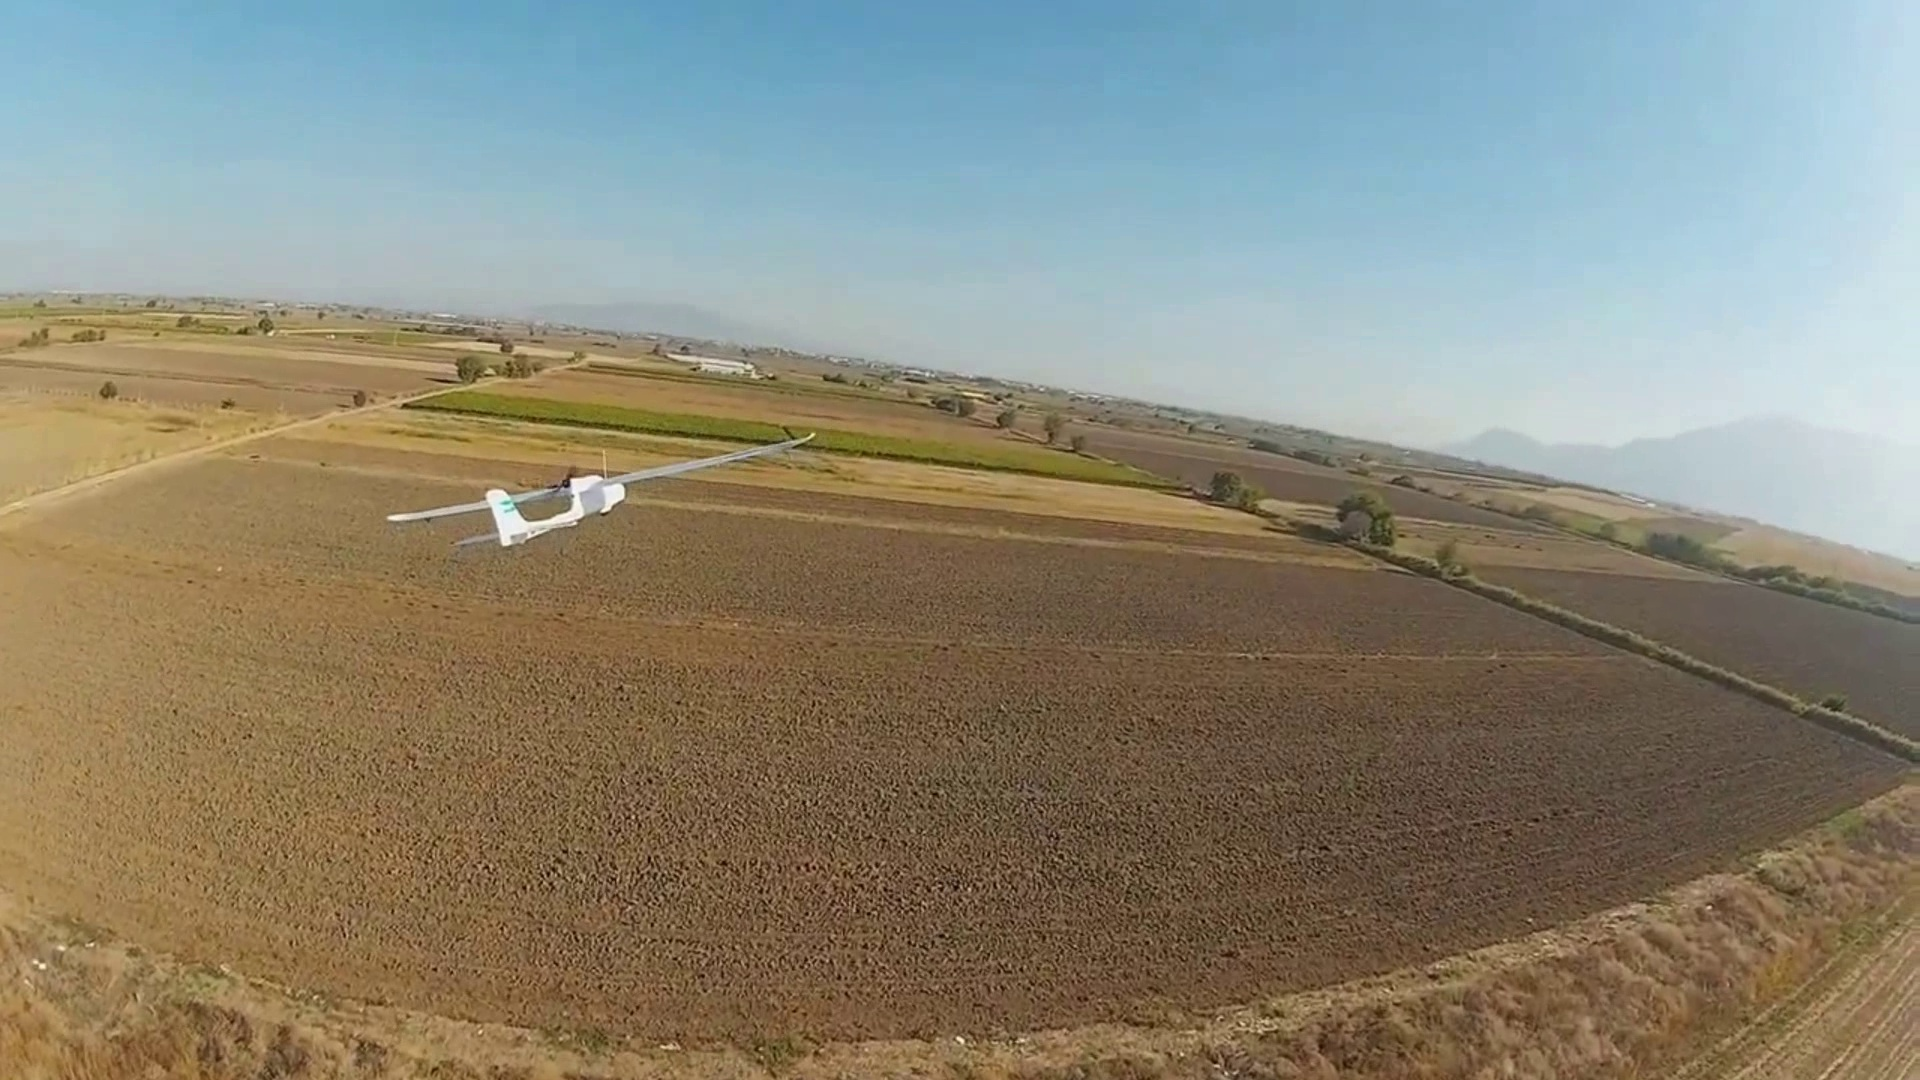airplane: (385, 434, 819, 553)
